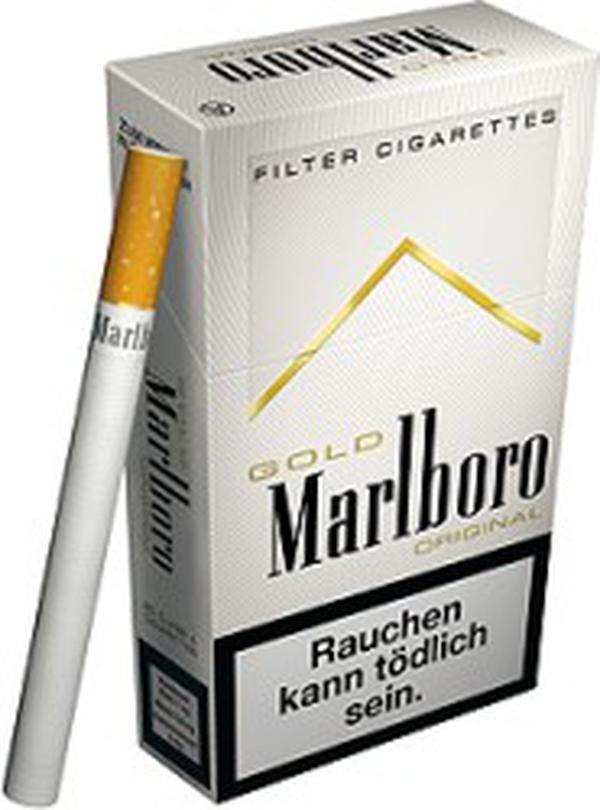marlboro_gold: (203, 71, 560, 683)
